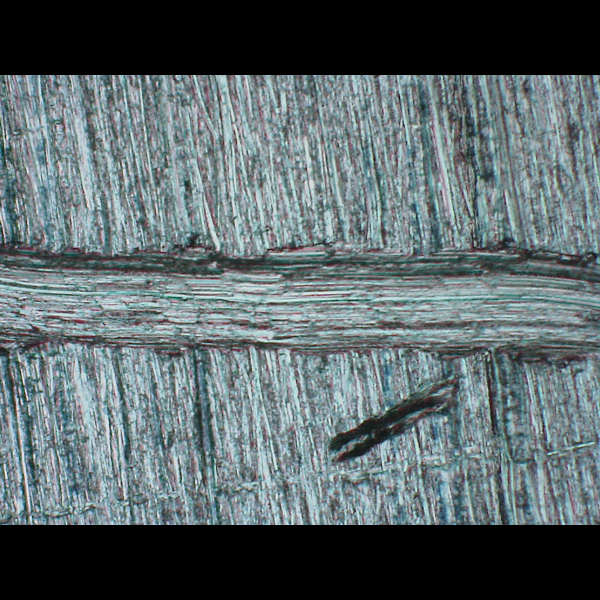d: (0, 226, 599, 466)
